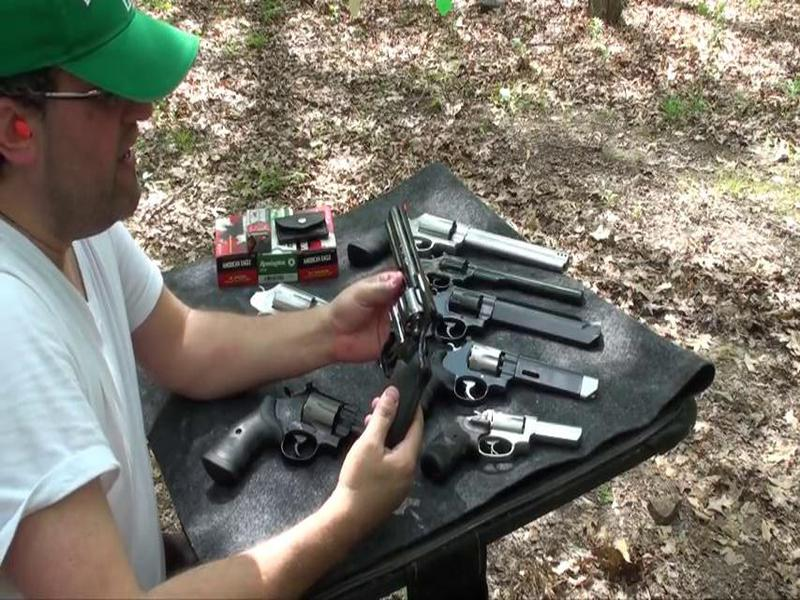Revolver: (358, 203, 453, 453)
